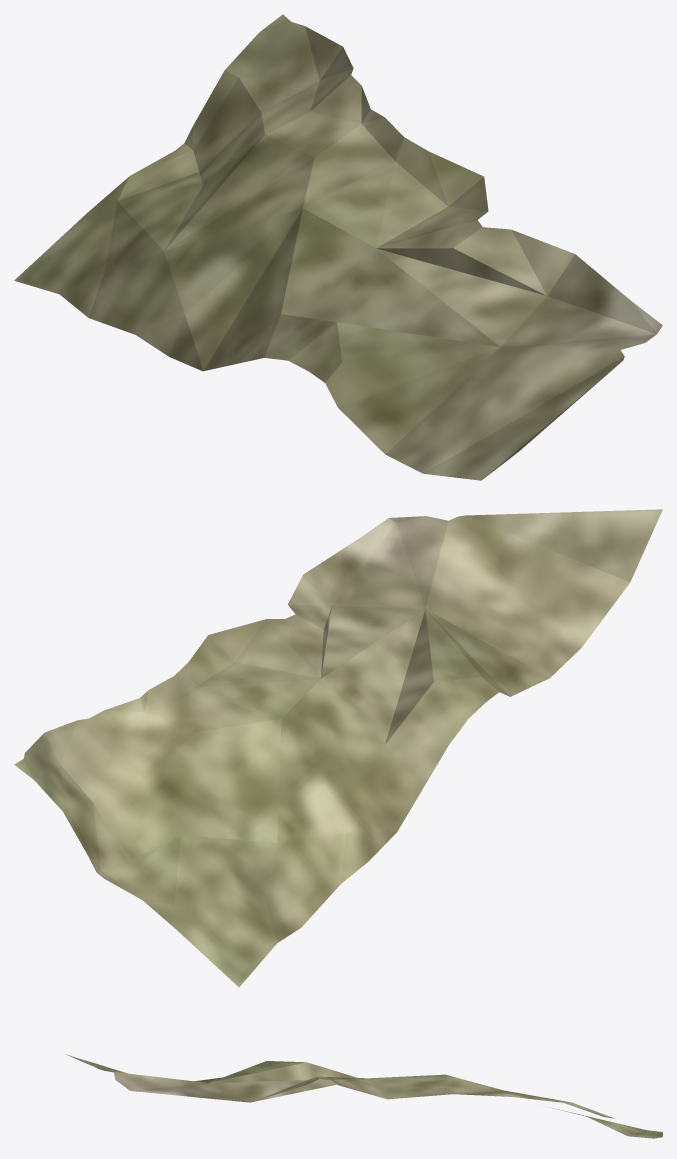
3 renders of one model, top to bottom at view 1: azimuth 30°, elevation 25°; view 2: azimuth 150°, elevation 25°; view 3: azimuth 270°, elevation 25°, orthographic. The views are drawn at different scales.
Size of the model in its own units: 0.8743 by 0.5973 by 2.73.
Materials: 1 (1 with a texture image).
